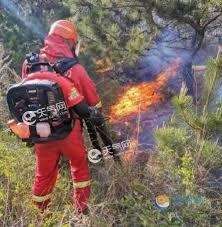fire: (108, 59, 181, 115)
